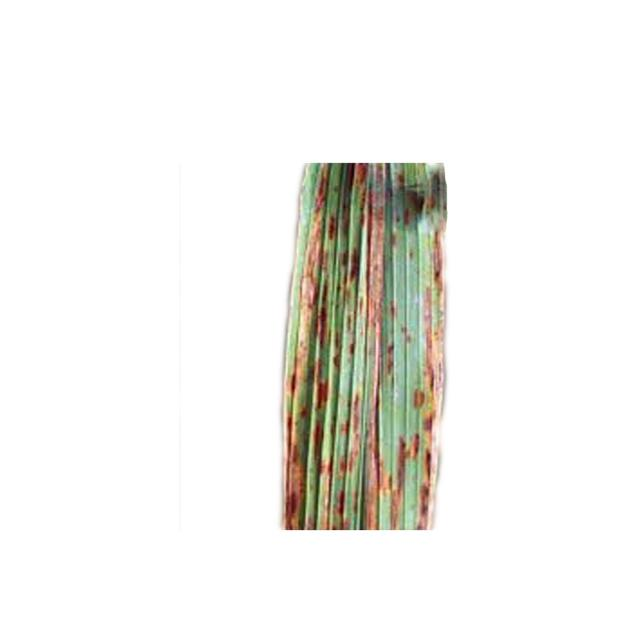Narrow brown: (263, 95, 522, 566)
